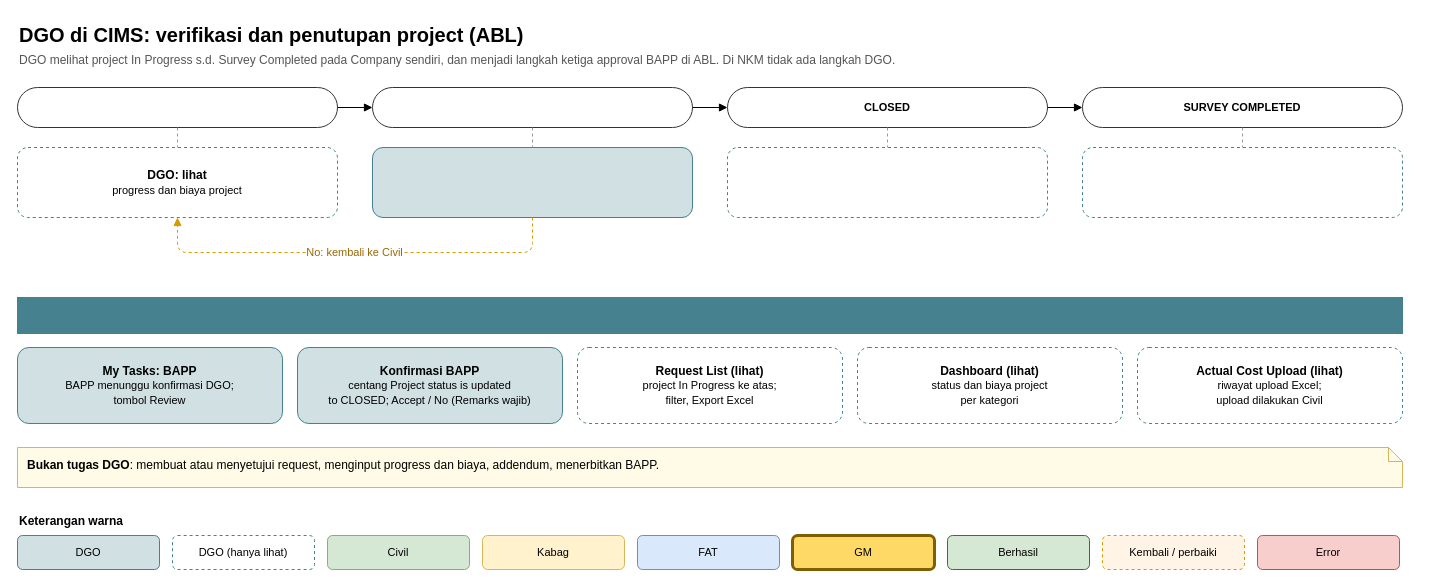
This 1435x588 diagram has some shape labels left out. The centre of each missing label's shape, as x and y in pixels:
"BAPP REVIEW" goes at [532,107].
"DGO: konfirmasi BAPP ABL: Kabag → FAT → DGO → GM; Accept / No" goes at [532,182].
"DGO: lihat Berita Acara: tanda tangan digital kolom DGO (Diverifikasi Oleh)" goes at [887,182].
"DGO: lihat data project tetap bisa dibuka" goes at [1242,182].
"IN PROGRESS" goes at [177,107].
"Pekerjaan DGO di CIMS" goes at [709,315].
